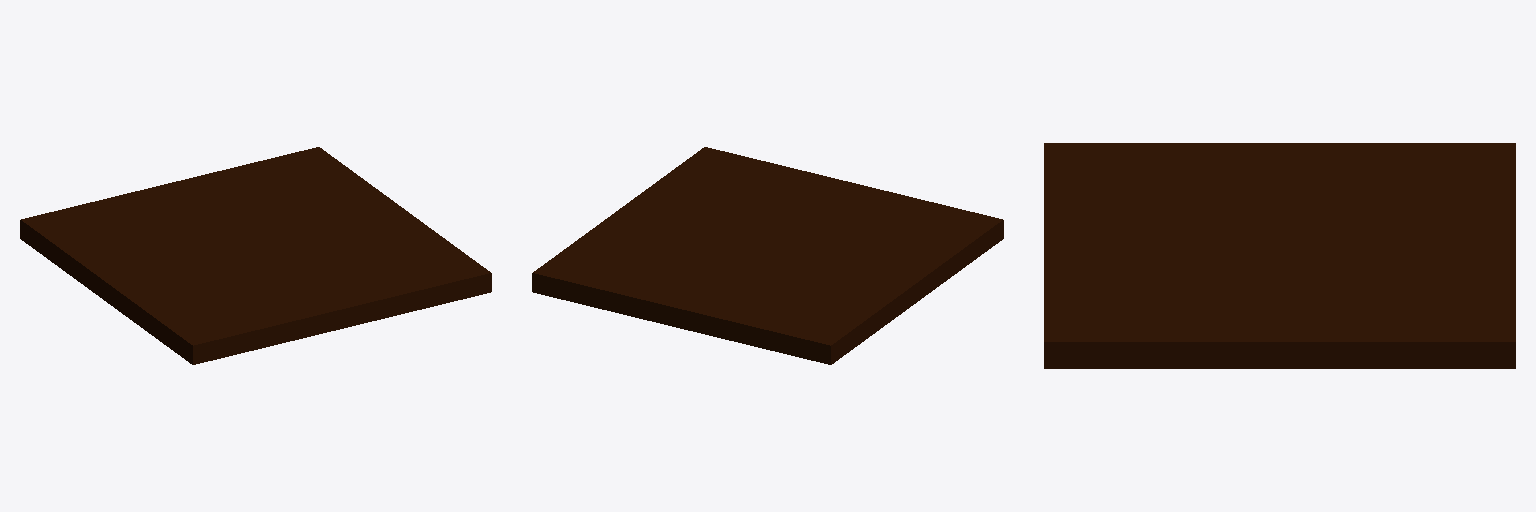
robot.urdf — brown_box:
<?xml version="1.0"?>
<!-- Brown place-target box. Matches the low ManiSkill PickPlace shelf:
     half-sizes (0.13, 0.13, 0.005) -> full (0.26, 0.26, 0.01). Widened
     by 5 cm per side from the ManiSkill shelf (0.16), which makes the place
     target larger than the one the policy was trained against. Static:
     it never moves, the cube is placed on its top face. base_link is at the box
     CENTER, so spawn it at world (0.515, -0.35, 0.755) -> top face at z = 0.76. -->
<robot name="brown_box">
  <link name="base_link">
    <visual>
      <geometry>
        <box size="0.16 0.16 0.01"/>
      </geometry>
      <material name="brown">
        <color rgba="0.22 0.11 0.04 1"/>
      </material>
    </visual>

    <collision>
      <geometry>
        <box size="0.26 0.26 0.01"/>
      </geometry>
    </collision>

    <inertial>
      <mass value="5.0"/>
      <inertia ixx="0.02" ixy="0.0" ixz="0.0" iyy="0.02" iyz="0.0" izz="0.02"/>
    </inertial>
  </link>

  <gazebo>
    <static>true</static>
  </gazebo>
</robot>

--- Facts derived from the render (not from the file) ---
The picture shows the robot from 3 angles, left to right: view 1: azimuth 30°, elevation 25°; view 2: azimuth 150°, elevation 25°; view 3: azimuth 270°, elevation 25°; orthographic projection.
Model brown_box with 1 links and 0 joints (none), rooted at base_link, posed all joints at 0.
Links seen in each view (by area): view 1: base_link; view 2: base_link; view 3: base_link.
Link boxes in pixels (bbox=[...]): base_link: bbox=[20, 147, 491, 364]; base_link: bbox=[532, 147, 1003, 364]; base_link: bbox=[1044, 143, 1515, 368].
Size in the robot's own frame: 0.16 by 0.16 by 0.01 metres.
Geometry: primitives only (box / cylinder / sphere), no mesh files.
